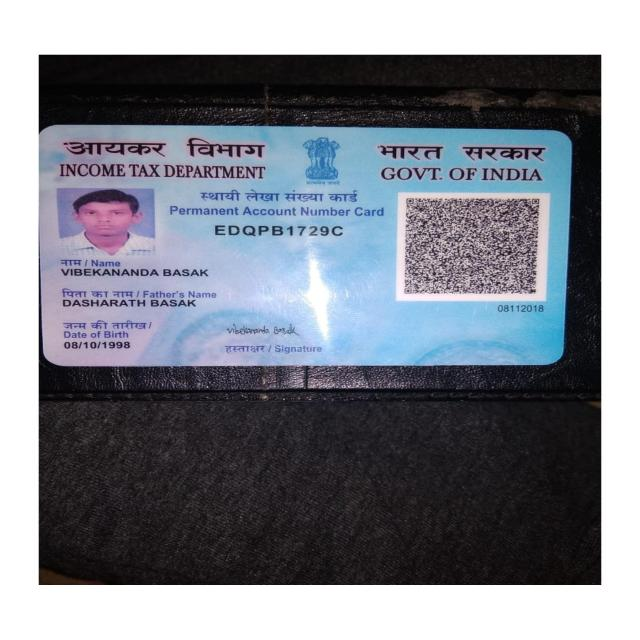pan_card: (42, 130, 566, 361)
